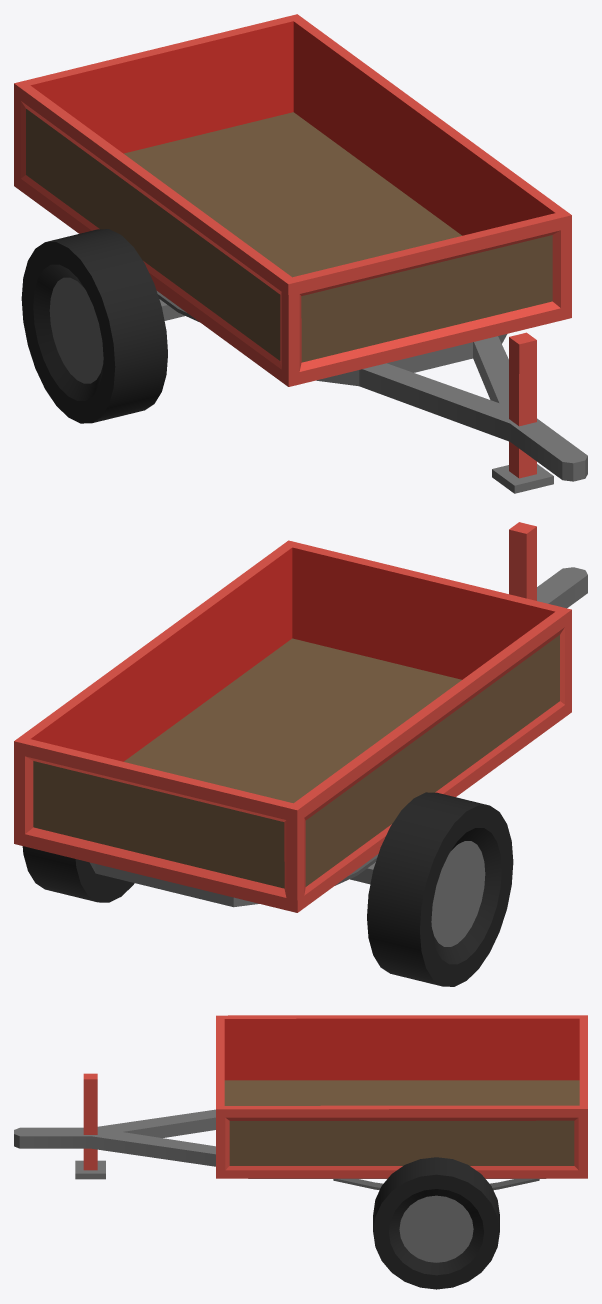
Rendered from Tractor_01_02_Trailer.fbx.
3 views of the same model, one above another, from view 1: azimuth 30°, elevation 25°; view 2: azimuth 150°, elevation 25°; view 3: azimuth 270°, elevation 25° (orthographic). The views are drawn at different scales.
Visible parts, largest first — view 1: Tractor_01_02_Trailer, Tractor_01_02_Trailer_Leg; view 2: Tractor_01_02_Trailer, Tractor_01_02_Trailer_Leg; view 3: Tractor_01_02_Trailer, Tractor_01_02_Trailer_Leg.
Boxes of the visible parts, left/top/right/bottom form: Tractor_01_02_Trailer: left=14, top=14, right=587, bottom=481; Tractor_01_02_Trailer_Leg: left=492, top=332, right=553, bottom=493; Tractor_01_02_Trailer: left=14, top=540, right=587, bottom=986; Tractor_01_02_Trailer_Leg: left=509, top=522, right=536, bottom=600; Tractor_01_02_Trailer: left=14, top=1015, right=587, bottom=1289; Tractor_01_02_Trailer_Leg: left=75, top=1073, right=105, bottom=1179.
Size of the model in its own units: 2.53 by 1.45 by 4.66.
